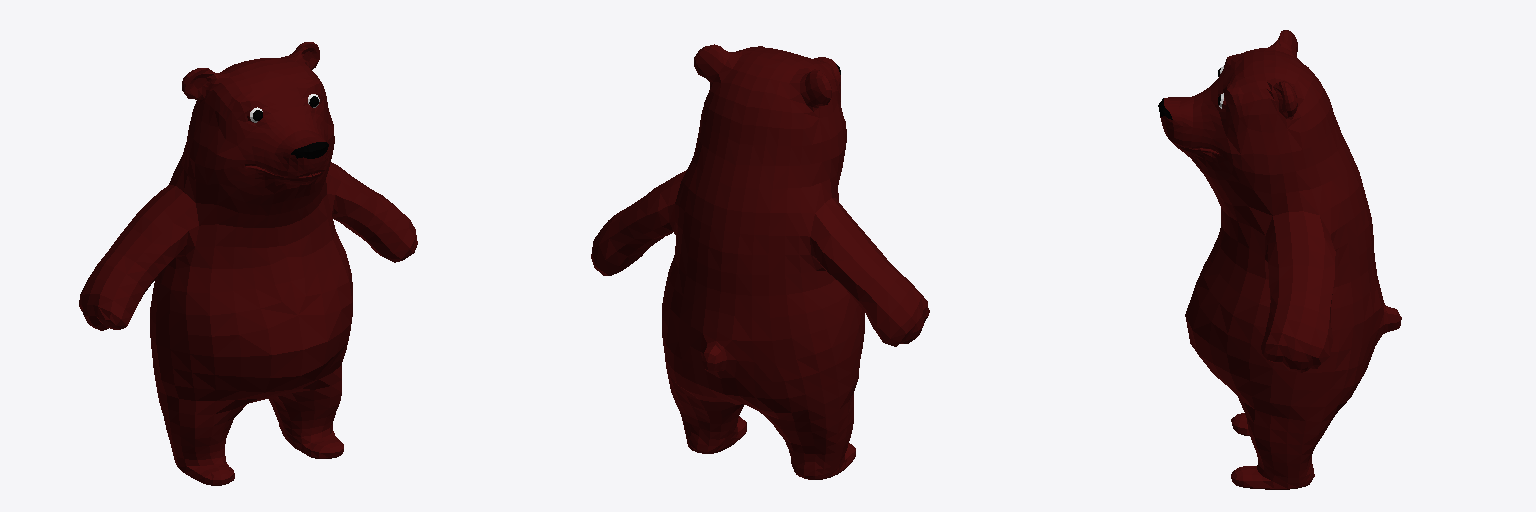
The model's file is mamabear.obj.
The picture shows the model from 3 angles: view 1: azimuth 30°, elevation 25°; view 2: azimuth 150°, elevation 25°; view 3: azimuth 270°, elevation 25°; orthographic projection.
Parts seen in each view (by area): view 1: Baby_Big; view 2: Baby_Big; view 3: Baby_Big.
Boxes of the visible parts, x1=… form: Baby_Big: x1=79, y1=42, x2=417, y2=485; Baby_Big: x1=591, y1=44, x2=929, y2=479; Baby_Big: x1=1160, y1=30, x2=1401, y2=489.
Bounding box in the file's own units: 1883 × 2220 × 1227.